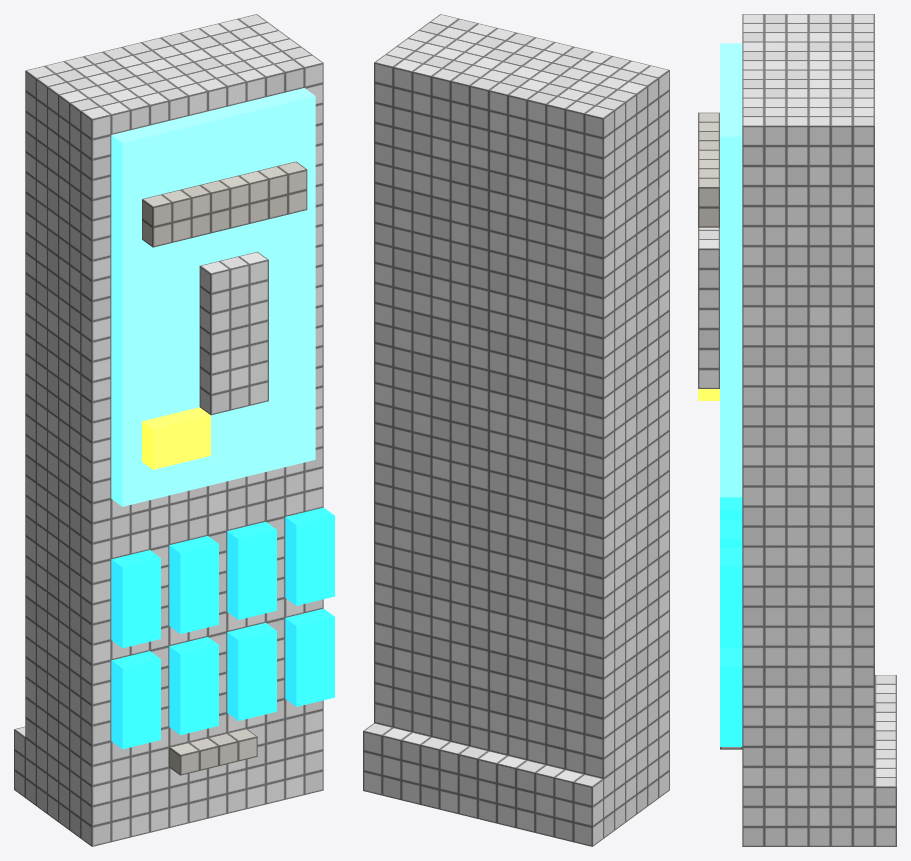
File: charging_kiosk.glb
The picture shows the model from 3 angles, left to right: view 1: azimuth 30°, elevation 25°; view 2: azimuth 150°, elevation 25°; view 3: azimuth 270°, elevation 25°; orthographic projection.
Parts seen in each view (by area): view 1: charging_kiosk; view 2: charging_kiosk; view 3: charging_kiosk.
Part boxes in pixels (x1=…): charging_kiosk: x1=14, y1=14, x2=334, y2=846; charging_kiosk: x1=363, y1=14, x2=669, y2=846; charging_kiosk: x1=698, y1=14, x2=896, y2=846.
Bounding box in the file's own units: 0.6 × 1.8 × 0.45.
6 materials, 3 textured.
